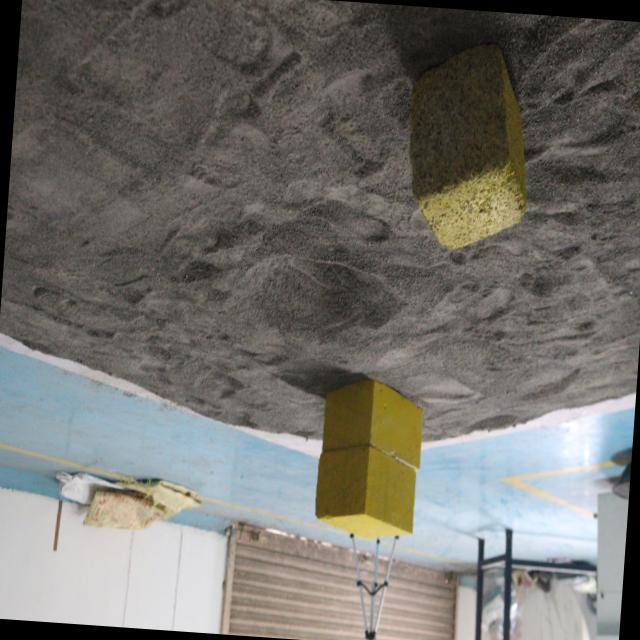box: (400, 32, 526, 258), (308, 376, 436, 544)
crater: (220, 252, 418, 350)
